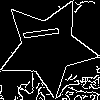I: (22, 22, 69, 43)
